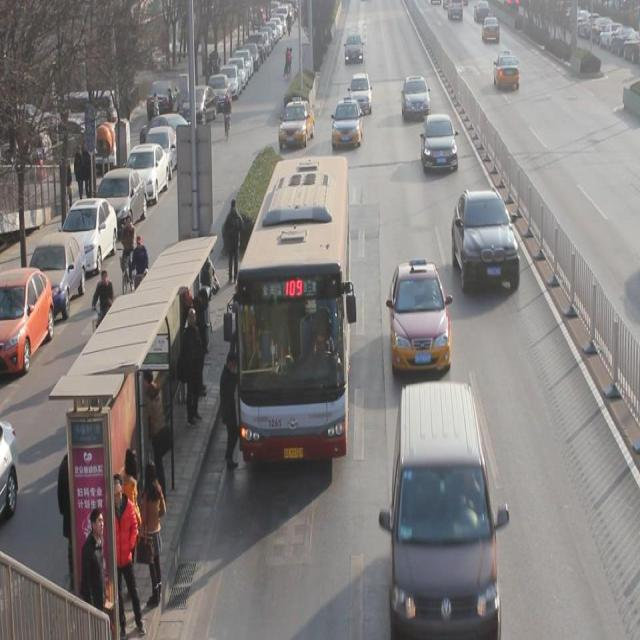car: (389, 258, 452, 372), (452, 188, 521, 292), (422, 111, 458, 172), (279, 96, 316, 148), (333, 96, 364, 148), (401, 74, 430, 118), (494, 49, 520, 88), (350, 70, 371, 110), (344, 32, 364, 64), (482, 11, 501, 41)
truck: (389, 378, 500, 640)
van: (236, 156, 347, 458)
